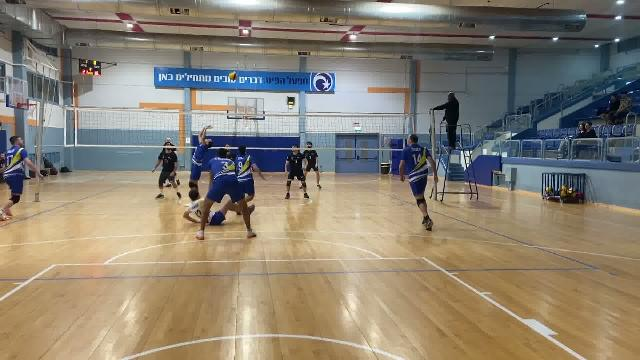ball: (227, 70, 239, 84)
